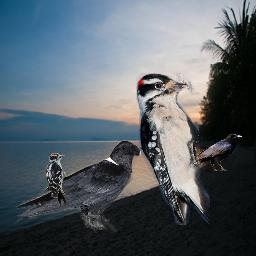Crow: (13, 140, 144, 233), (185, 133, 242, 171)
Woodpecker: (136, 73, 210, 225), (45, 153, 66, 206)
